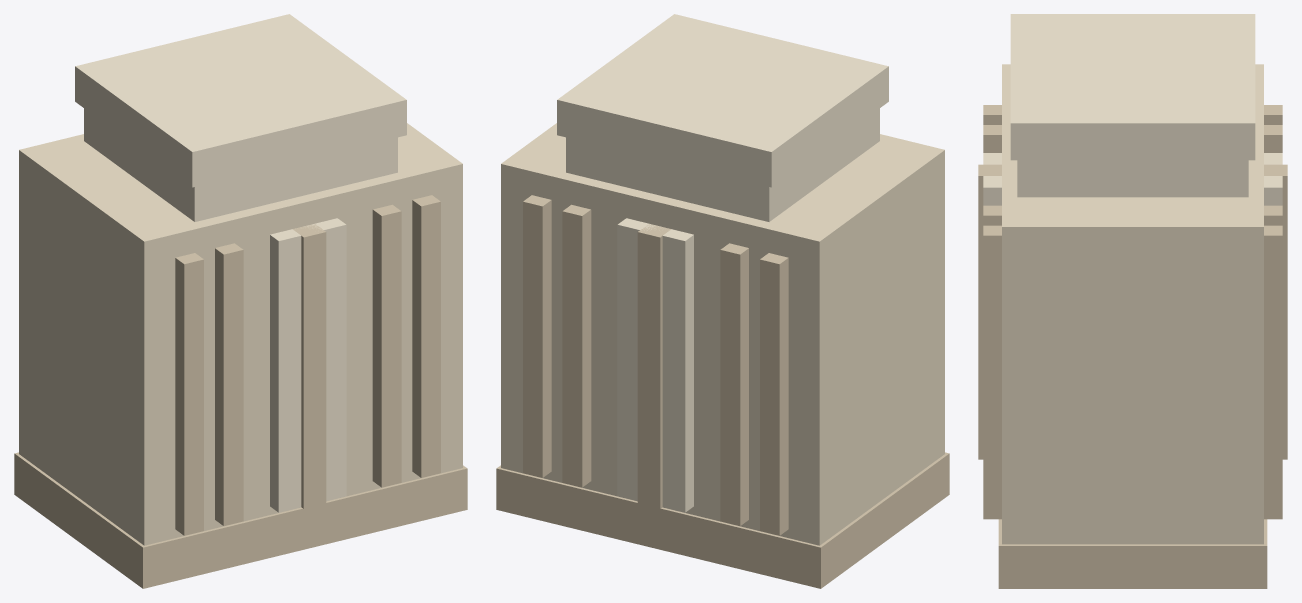
File: sueter_tronco.glb
3 renders of one model, left to right at view 1: azimuth 30°, elevation 25°; view 2: azimuth 150°, elevation 25°; view 3: azimuth 270°, elevation 25°, orthographic. The views are drawn at different scales.
Visible parts, largest first — view 1: sueter_tronco; view 2: sueter_tronco; view 3: sueter_tronco.
Boxes of the visible parts, x1,y1,x2,y2 form: sueter_tronco: (14, 14, 467, 588); sueter_tronco: (496, 14, 949, 588); sueter_tronco: (978, 14, 1287, 588).
Bounding box in the file's own units: 0.575 × 0.71 × 0.455.
